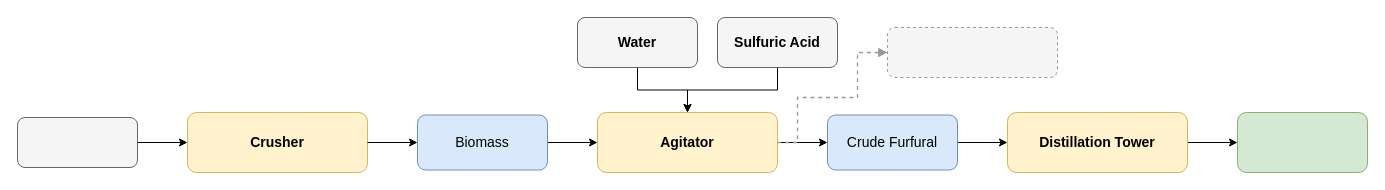
The diagram is 1385 pixels wide and 190 high, and some of its shapes have lost their labels. The centre of each missing label's shape, as x and y in pixels:
"Furfural" belongs at (1302,142).
"Plants and Crops" belongs at (77,142).
"Spent Biomass (byproduct)" belongs at (972,52).
